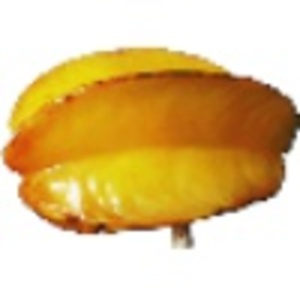carambola: (1, 44, 300, 250)
